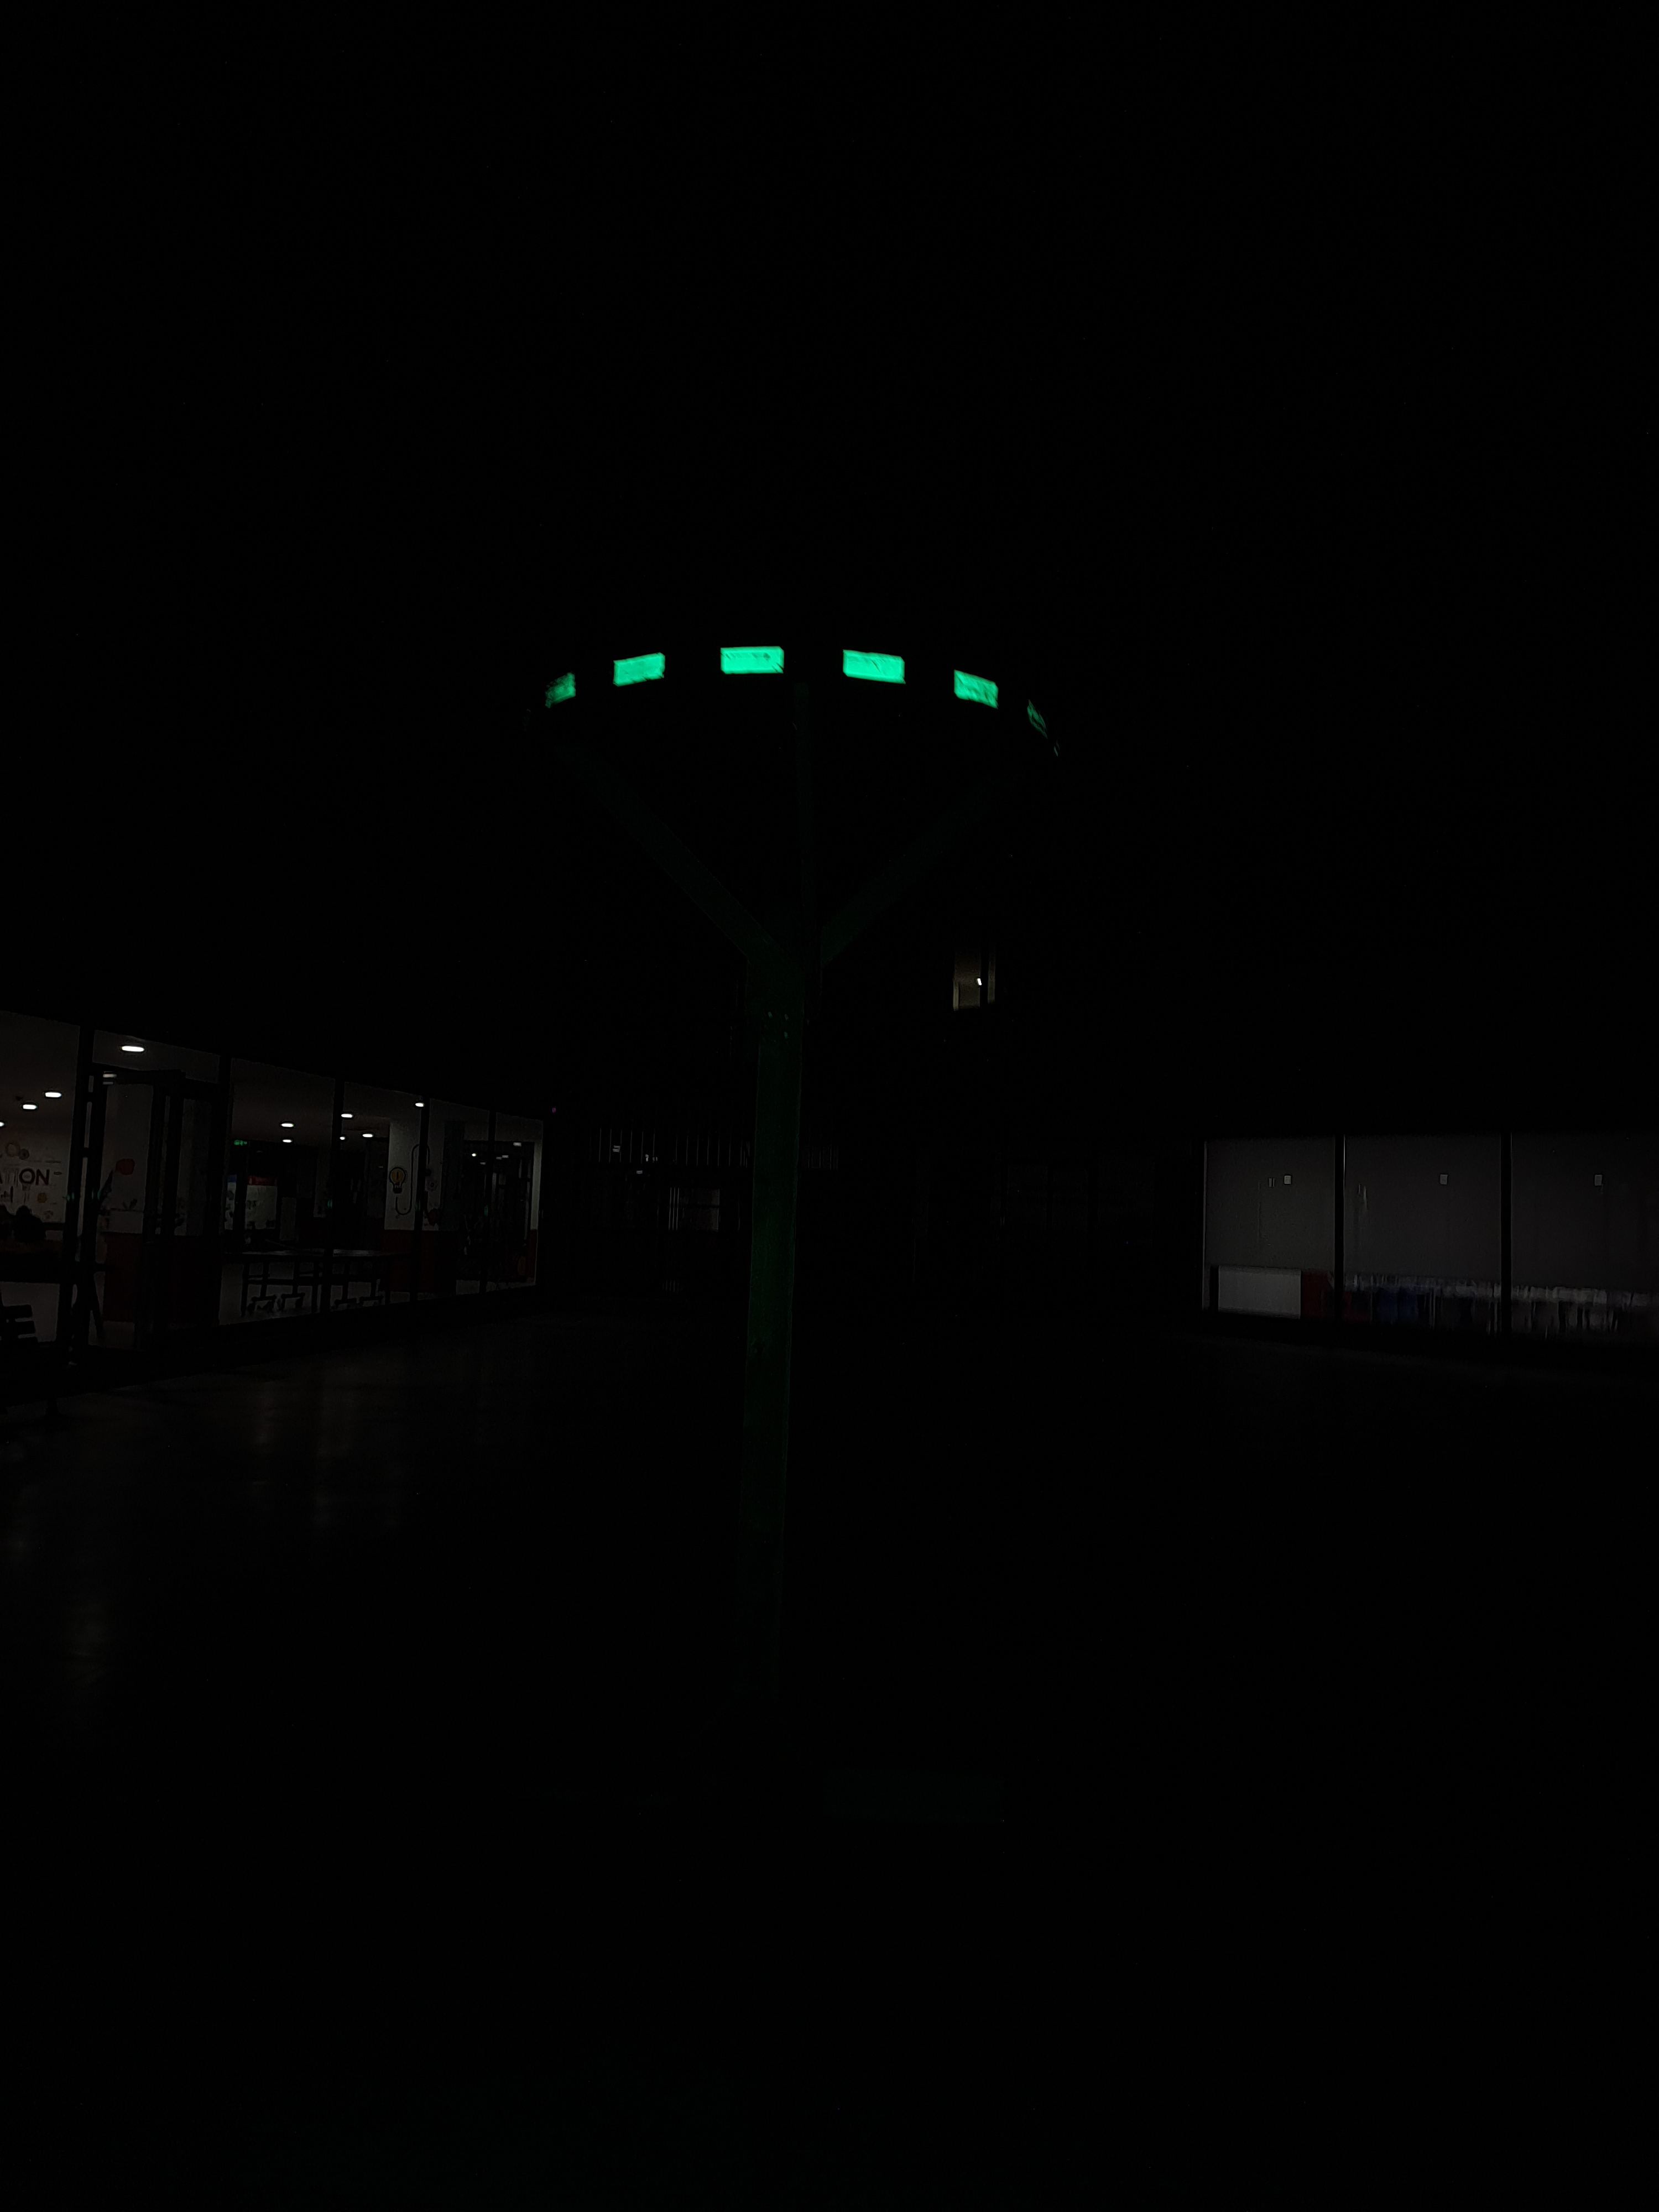hoop: (542, 639, 1004, 726)
